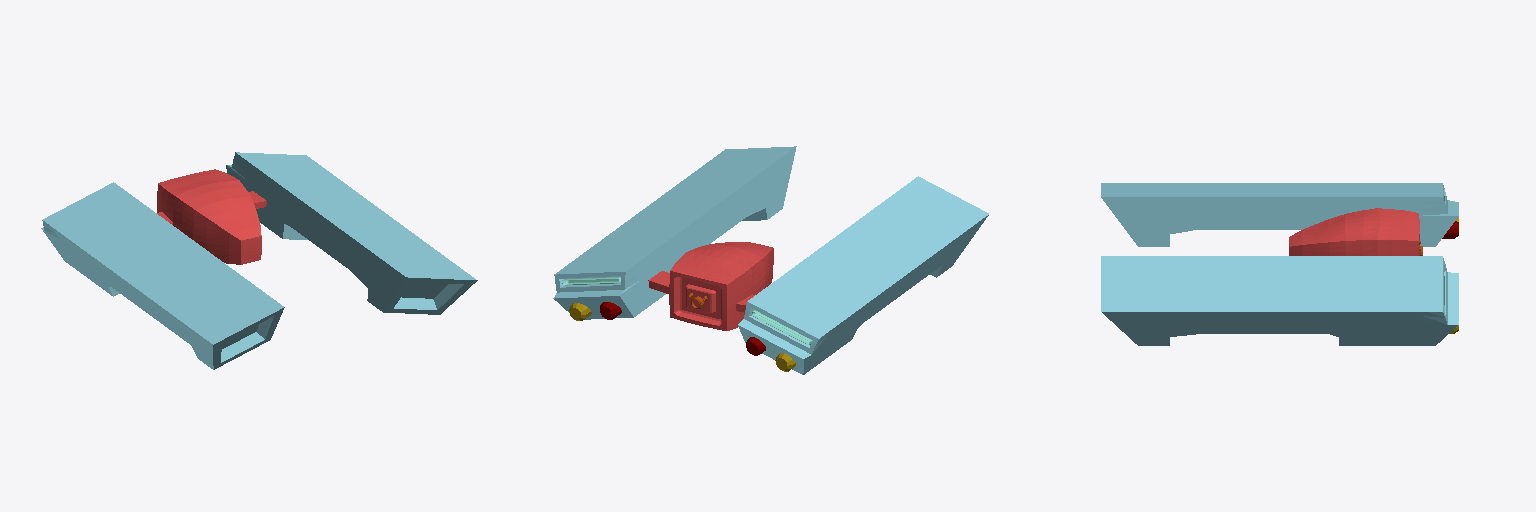
File: Ship2.obj
3 renders of one model, left to right at view 1: azimuth 30°, elevation 25°; view 2: azimuth 150°, elevation 25°; view 3: azimuth 270°, elevation 25°, orthographic.
Parts seen in each view (by area): view 1: Box001, Box002, Box003; view 2: Box001, Box002, Box003; view 3: Box002, Box001, Box003.
Part boxes in pixels (bbox=[...]): Box001: bbox=[41, 182, 284, 369]; Box002: bbox=[226, 152, 477, 314]; Box003: bbox=[157, 169, 266, 264]; Box001: bbox=[738, 176, 988, 374]; Box002: bbox=[553, 146, 796, 319]; Box003: bbox=[648, 242, 773, 330]; Box002: bbox=[1101, 256, 1458, 345]; Box001: bbox=[1101, 183, 1458, 246]; Box003: bbox=[1289, 208, 1419, 255].
Size of the model in its own units: 82.13 by 20.61 by 96.25.